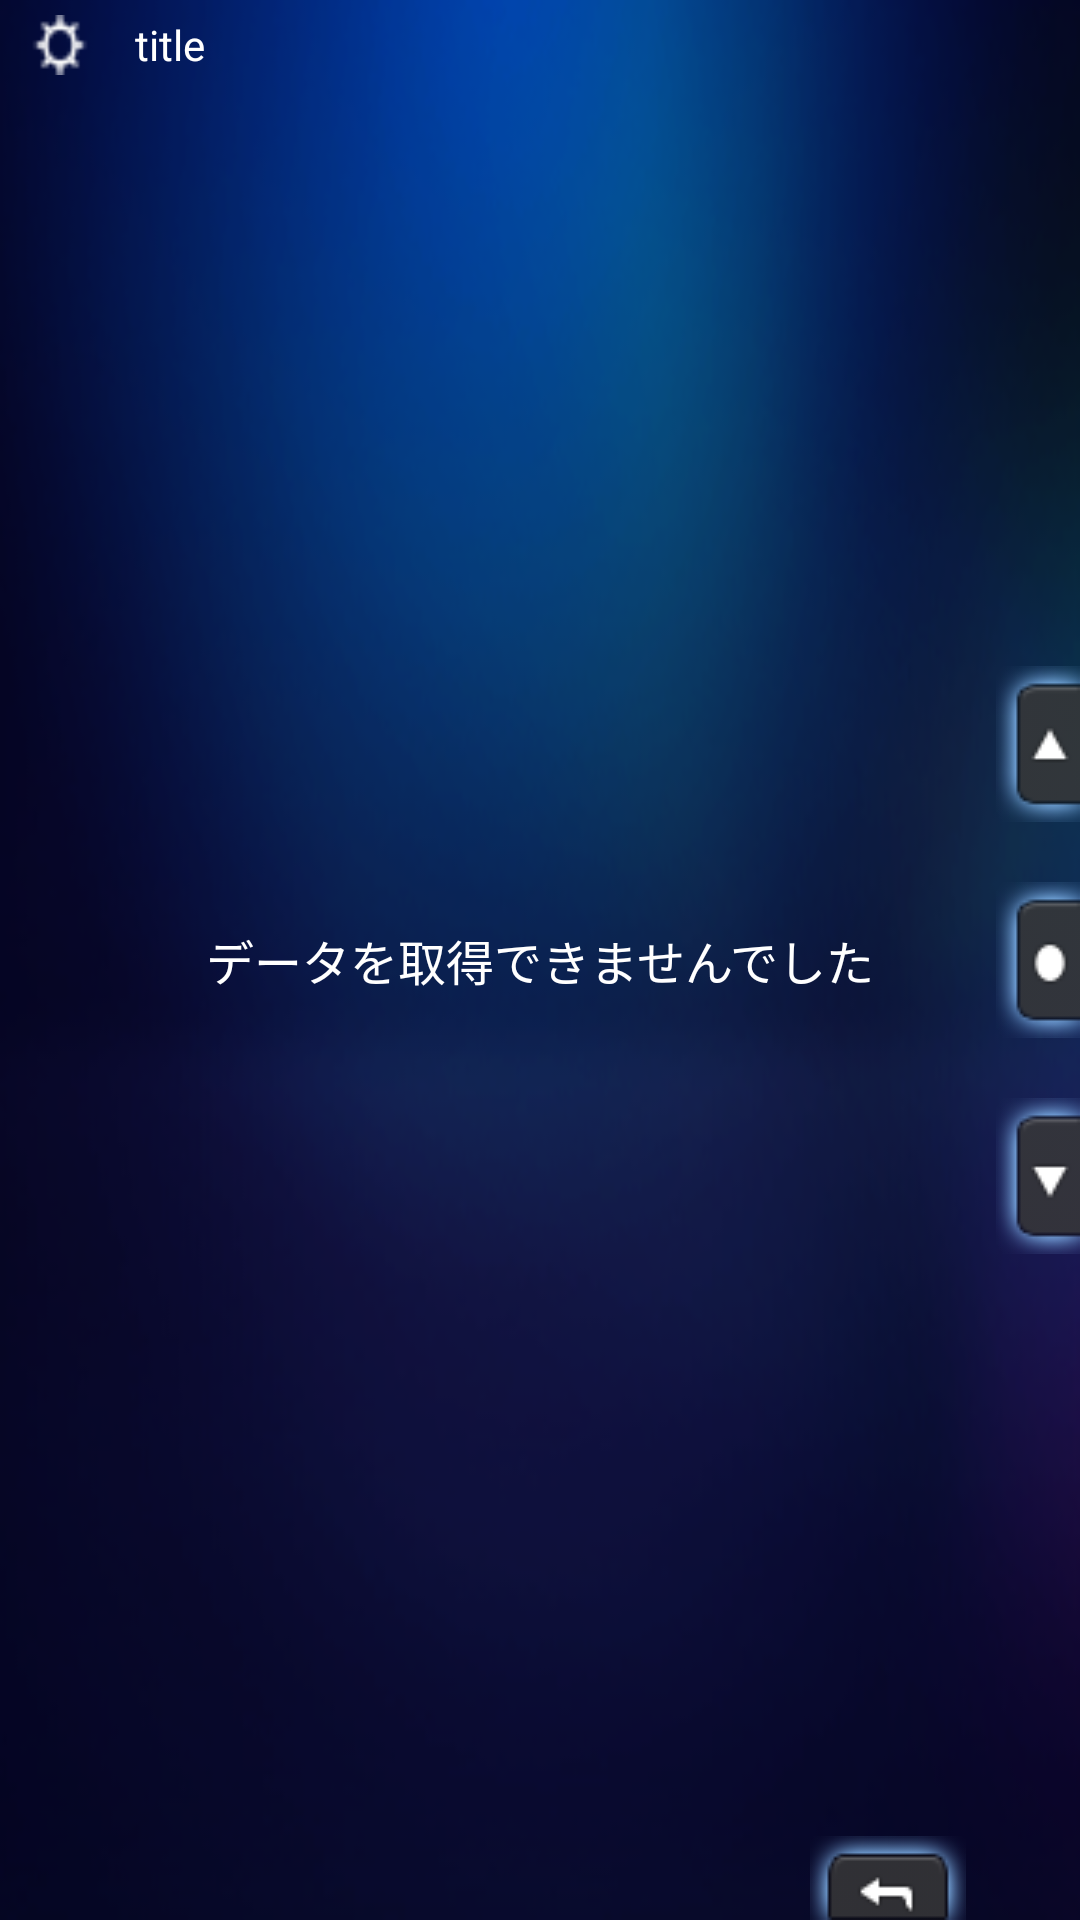

Named icons in this screenshot (1080*1920) and their centers, (x,y):
sub setting: (60,45)
tag menu main back: (887,1878)
tag menu main enter: (1040,960)
tag menu main movedown: (1040,1176)
tag menu main moveup: (1040,745)
